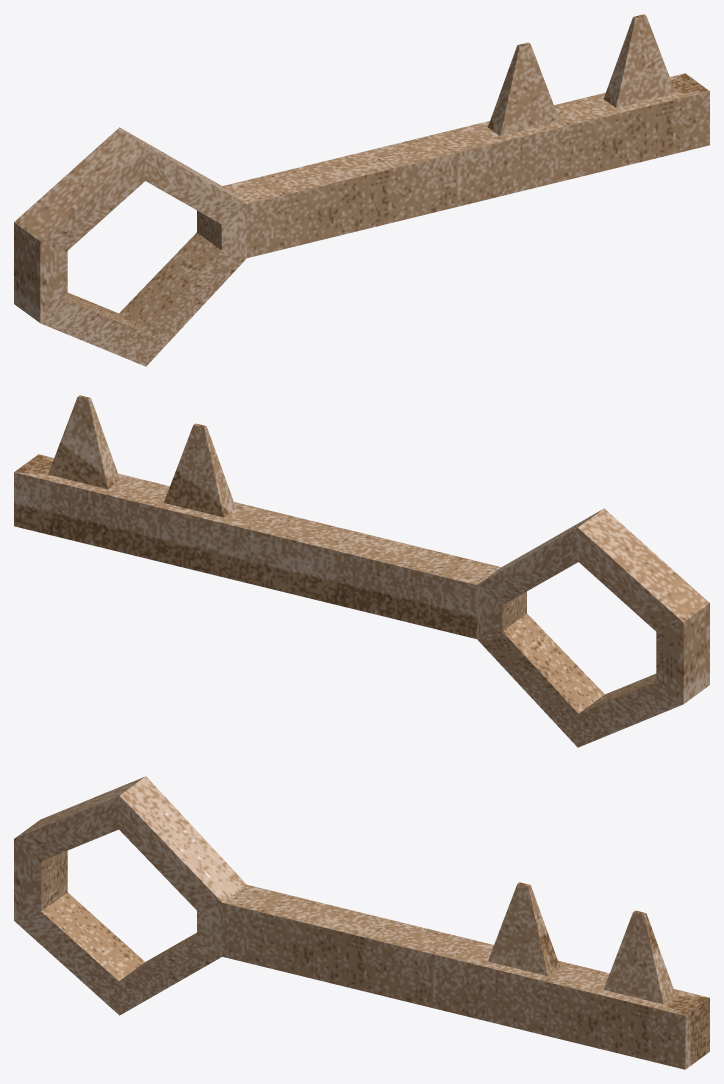
File: Bronze_Key.obj
The picture shows the model from 3 angles, top to bottom: view 1: azimuth 30°, elevation 25°; view 2: azimuth 150°, elevation 25°; view 3: azimuth 330°, elevation 25°; orthographic projection.
Parts seen in each view (by area): view 1: Bronze_Key_Cylinder; view 2: Bronze_Key_Cylinder; view 3: Bronze_Key_Cylinder.
Part boxes in pixels (bbox=[...]): Bronze_Key_Cylinder: bbox=[14, 14, 709, 366]; Bronze_Key_Cylinder: bbox=[14, 395, 709, 747]; Bronze_Key_Cylinder: bbox=[14, 776, 709, 1069].
Bounding box in the file's own units: 0.9472 × 0.2971 × 0.0648.
